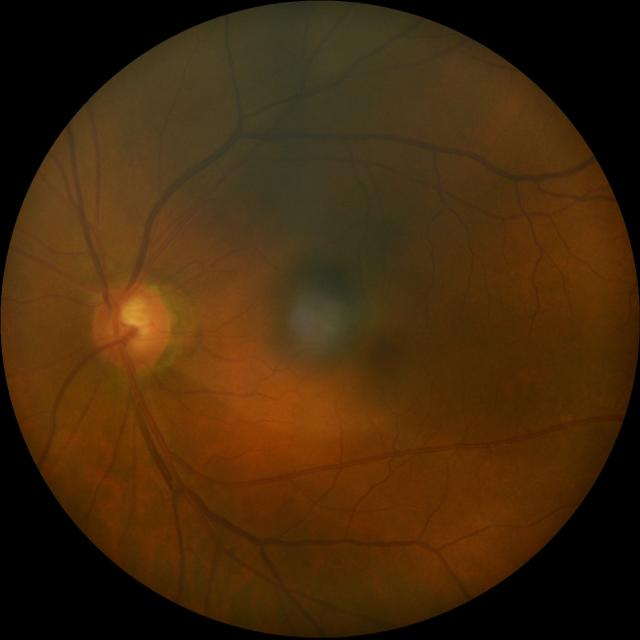OC: (113, 296, 152, 356)
OD: (91, 282, 170, 372)
